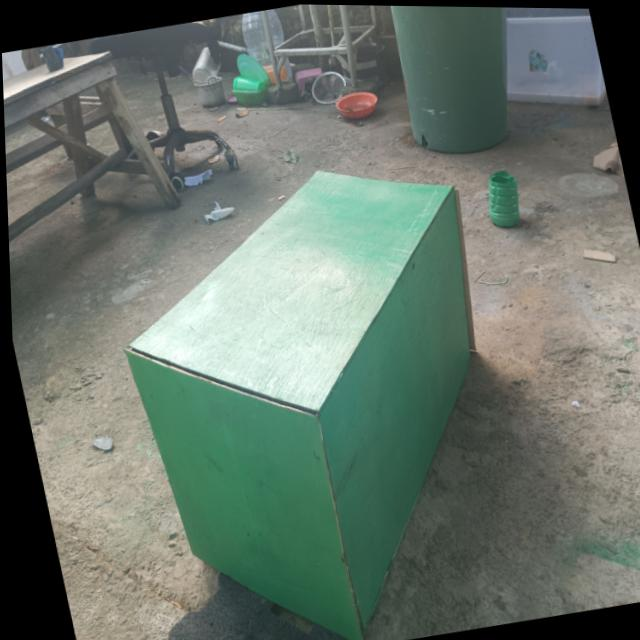green_box: (46, 91, 556, 640)
